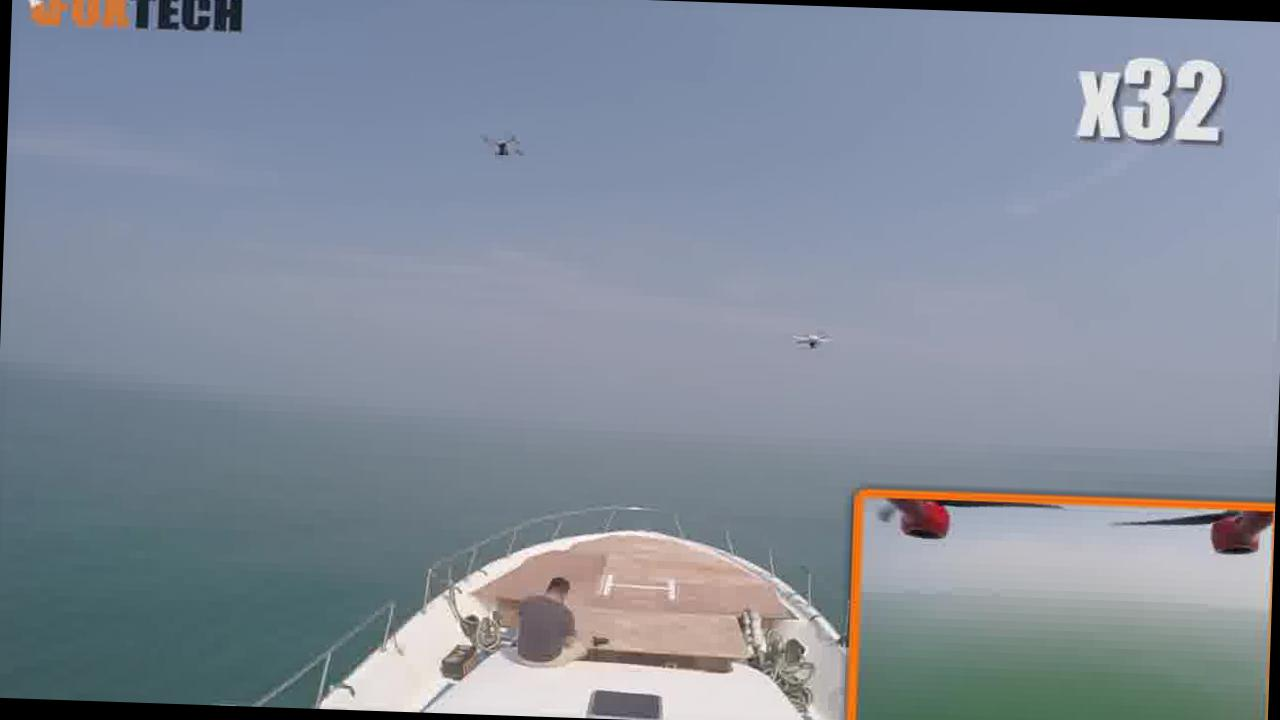drone: (466, 118, 528, 175), (785, 308, 848, 358)
